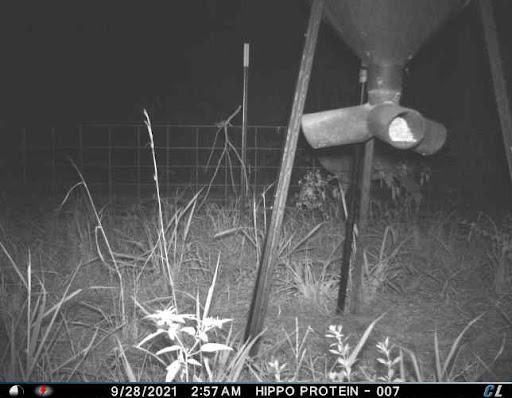Deer: (312, 140, 439, 225)
